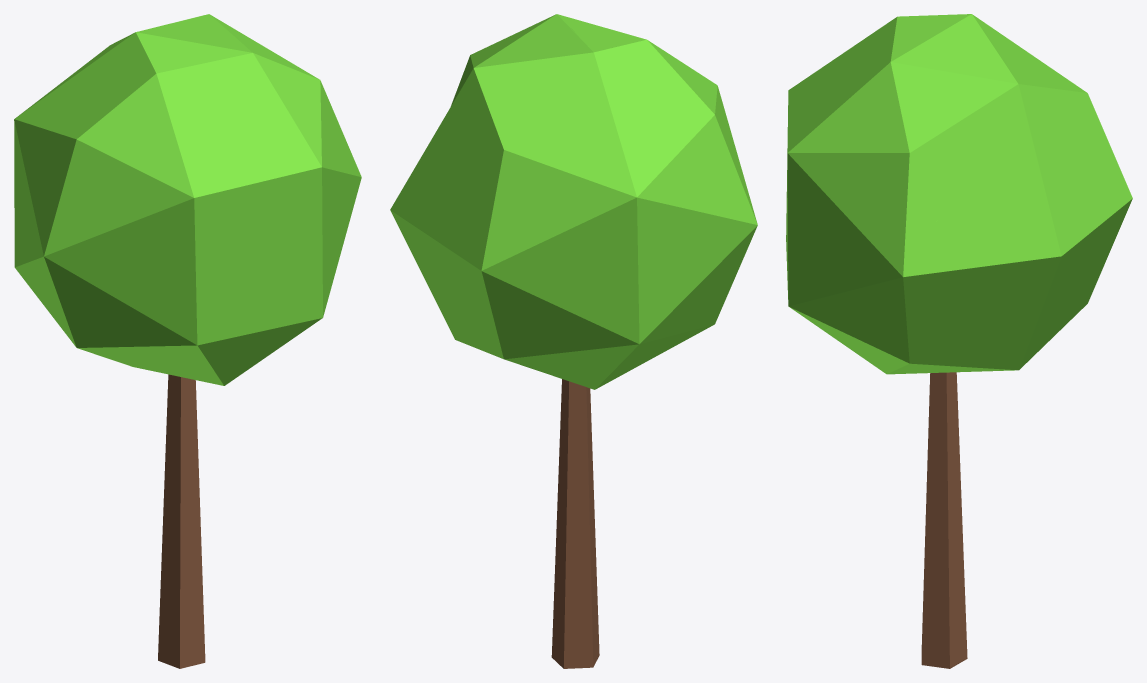
Rendered from nomalTree1.fbx.
3 renders of one model, left to right at view 1: azimuth 30°, elevation 25°; view 2: azimuth 150°, elevation 25°; view 3: azimuth 270°, elevation 25°, orthographic.
Parts seen in each view (by area): view 1: Sphere, Cylinder; view 2: Sphere, Cylinder; view 3: Sphere, Cylinder.
Boxes of the visible parts, x1,y1,x2,y2 form: Sphere: (14, 14, 361, 385); Cylinder: (158, 374, 205, 668); Sphere: (390, 14, 757, 389); Cylinder: (551, 379, 599, 668); Sphere: (786, 14, 1132, 374); Cylinder: (921, 372, 967, 668).
Size of the model in its own units: 1467 by 2733 by 1366.
2 materials, 2 textured.
